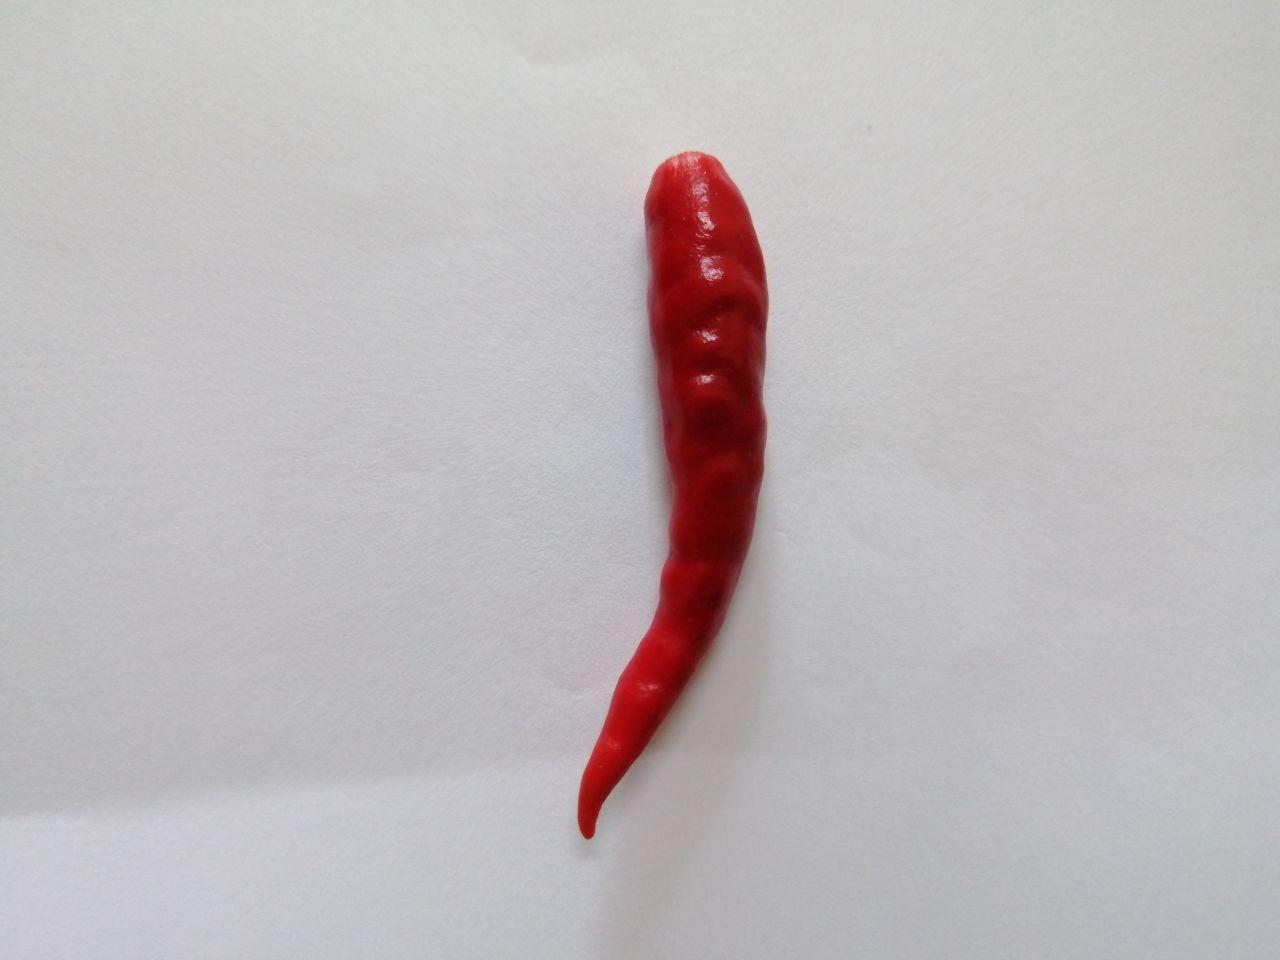lada merah: (571, 146, 788, 858)
